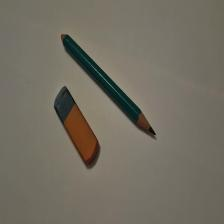eraser: (55, 86, 100, 166)
pencil: (62, 34, 157, 137)
